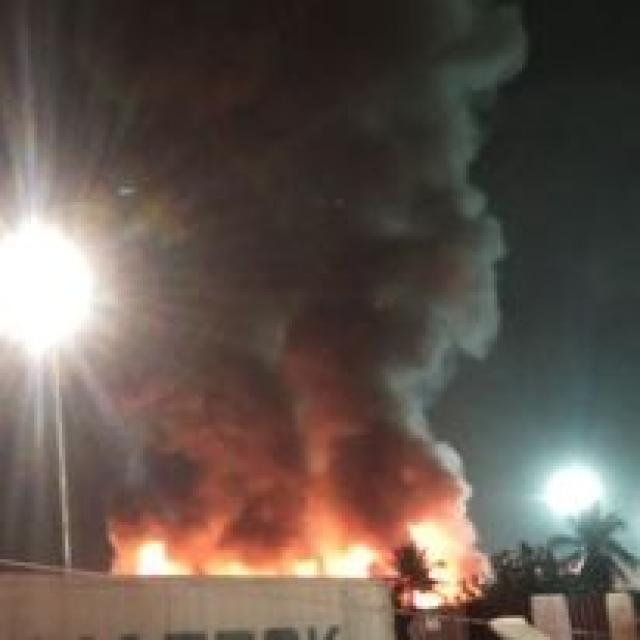Fire: (108, 526, 494, 612)
Smoke: (109, 0, 531, 511)
